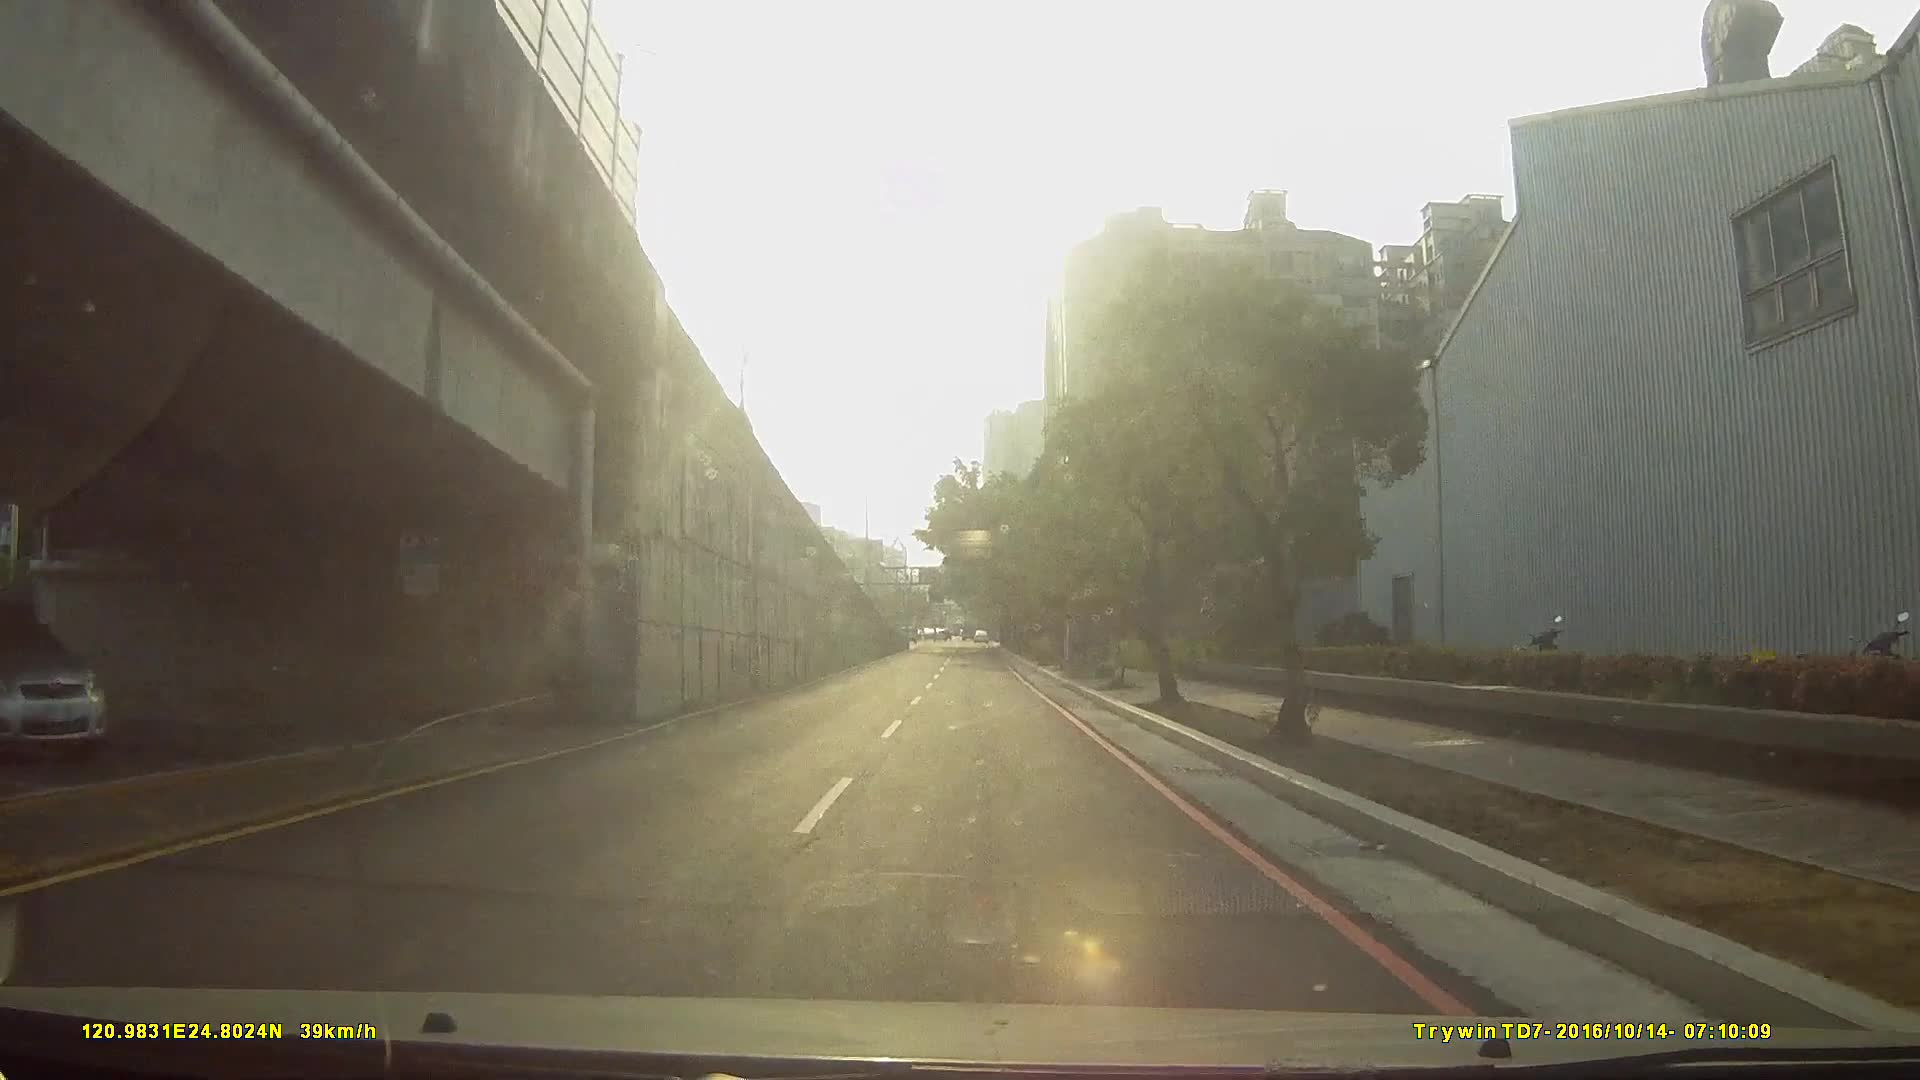vehicle: (1, 607, 107, 770)
